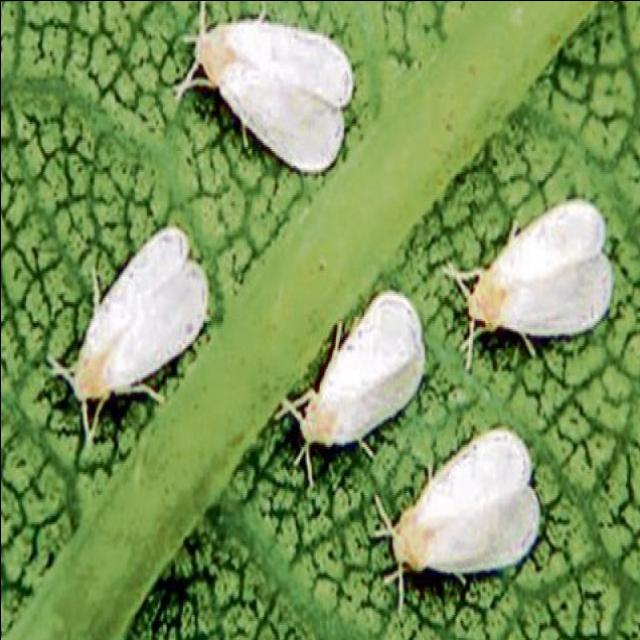Whitefly: (35, 211, 230, 464), (361, 413, 548, 625), (277, 272, 435, 504), (172, 8, 362, 198), (439, 195, 630, 380)
